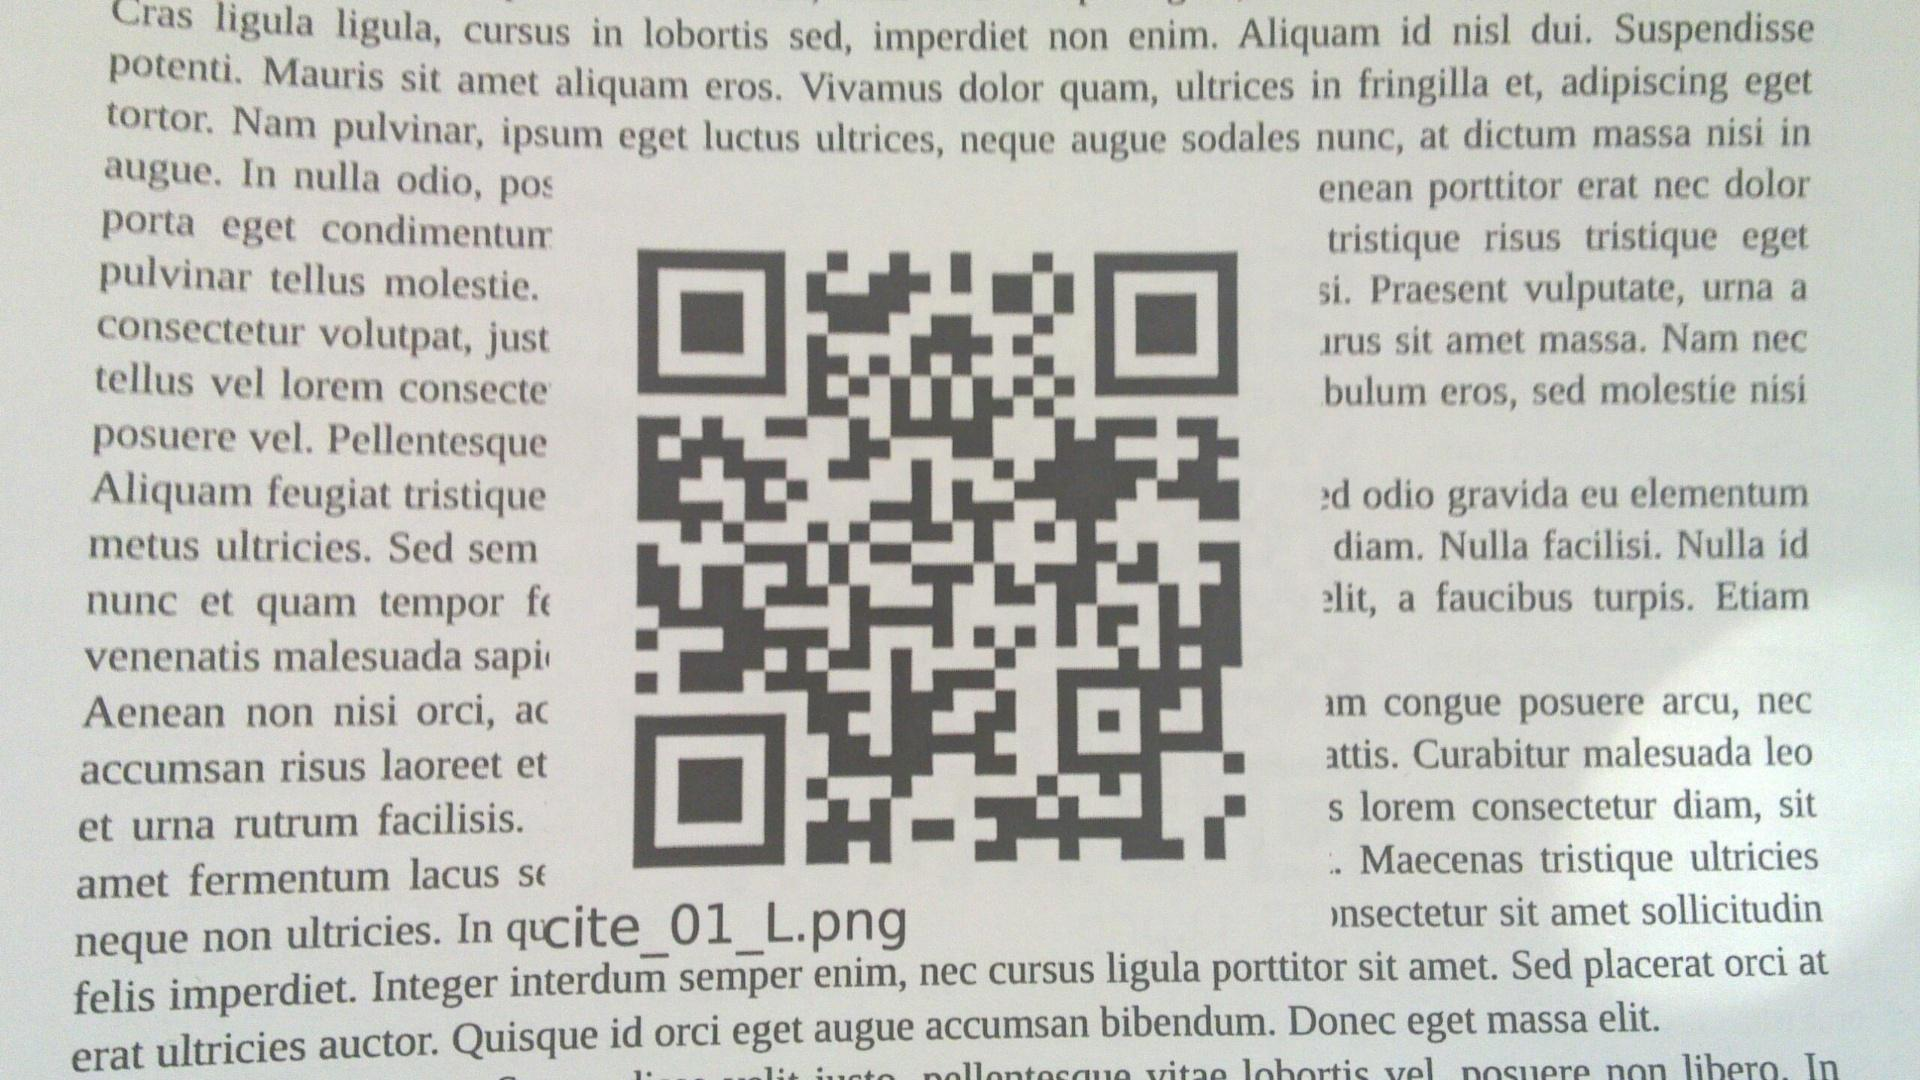Finder pattern: (622, 704, 799, 878), (626, 237, 796, 402), (1085, 244, 1249, 406)
